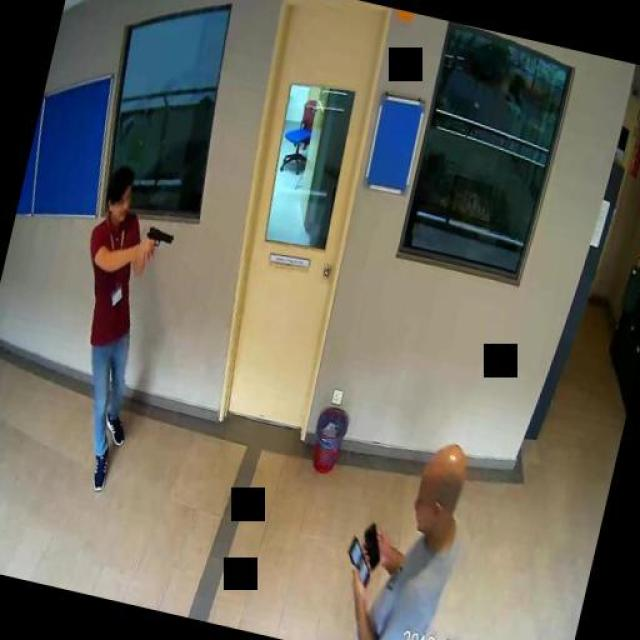gun: (141, 222, 175, 258)
